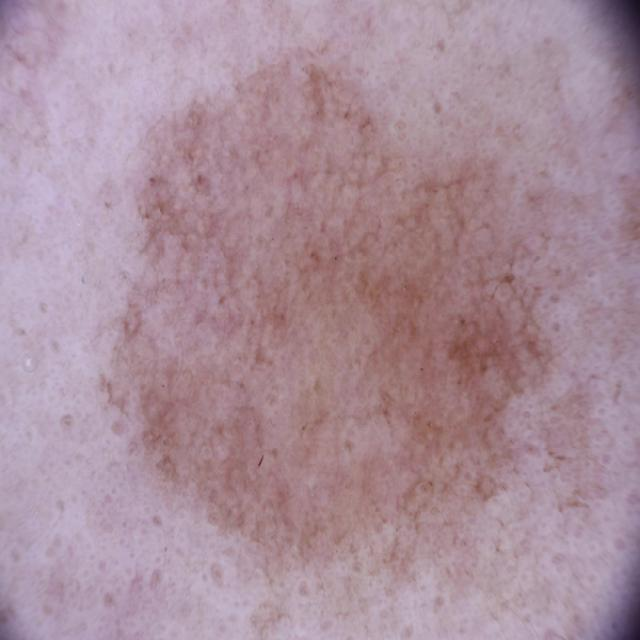Skin-Cancer Pigmented benign keratosis: (63, 26, 602, 590)
